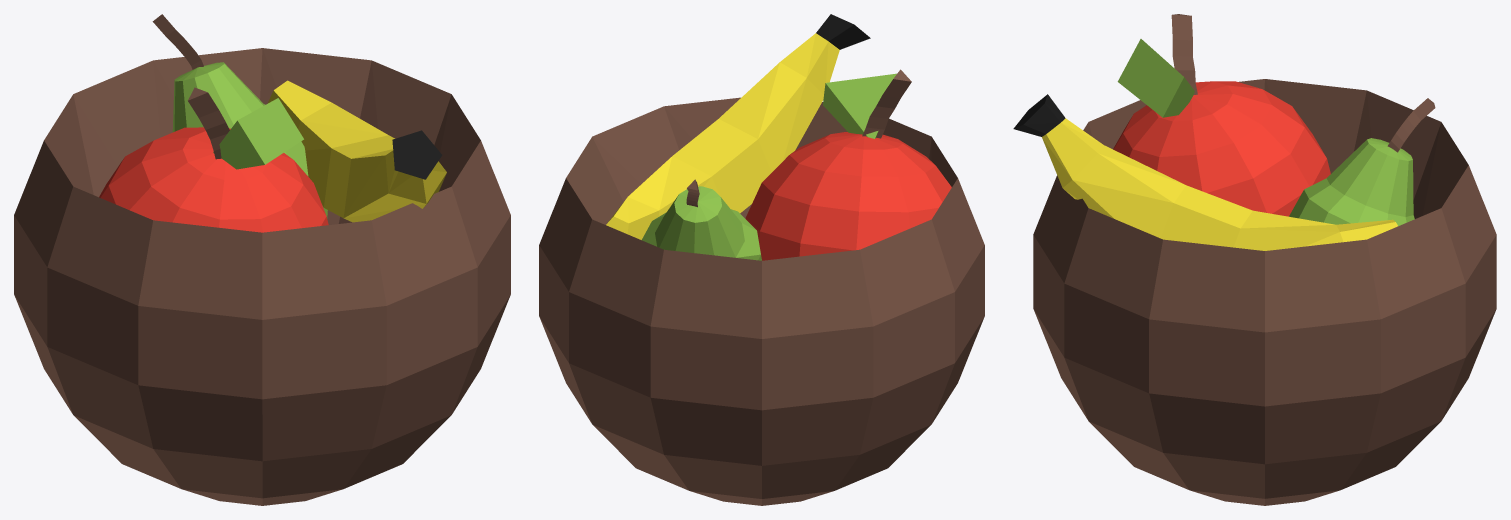
Rendered from Bowl of Fruit.glb.
3 renders of one model, left to right at view 1: azimuth 30°, elevation 25°; view 2: azimuth 150°, elevation 25°; view 3: azimuth 270°, elevation 25°, orthographic. The views are drawn at different scales.
Parts seen in each view (by area): view 1: group2004377651, group873218243, group668651633, group255365716; view 2: group2004377651, group873218243, group668651633, group255365716; view 3: group2004377651, group873218243, group668651633, group255365716.
Part boxes in pixels (x1,y1,x2,y2): group2004377651: [14, 48, 510, 505]; group873218243: [99, 87, 328, 232]; group668651633: [267, 80, 446, 222]; group255365716: [152, 14, 327, 218]; group2004377651: [539, 97, 984, 505]; group873218243: [745, 69, 951, 260]; group668651633: [606, 14, 870, 239]; group255365716: [642, 179, 761, 260]; group2004377651: [1033, 79, 1496, 505]; group873218243: [1113, 14, 1330, 216]; group668651633: [1013, 94, 1397, 250]; group255365716: [1289, 98, 1435, 225].
Size of the model in its own units: 0.3151 by 0.317 by 0.3288.
